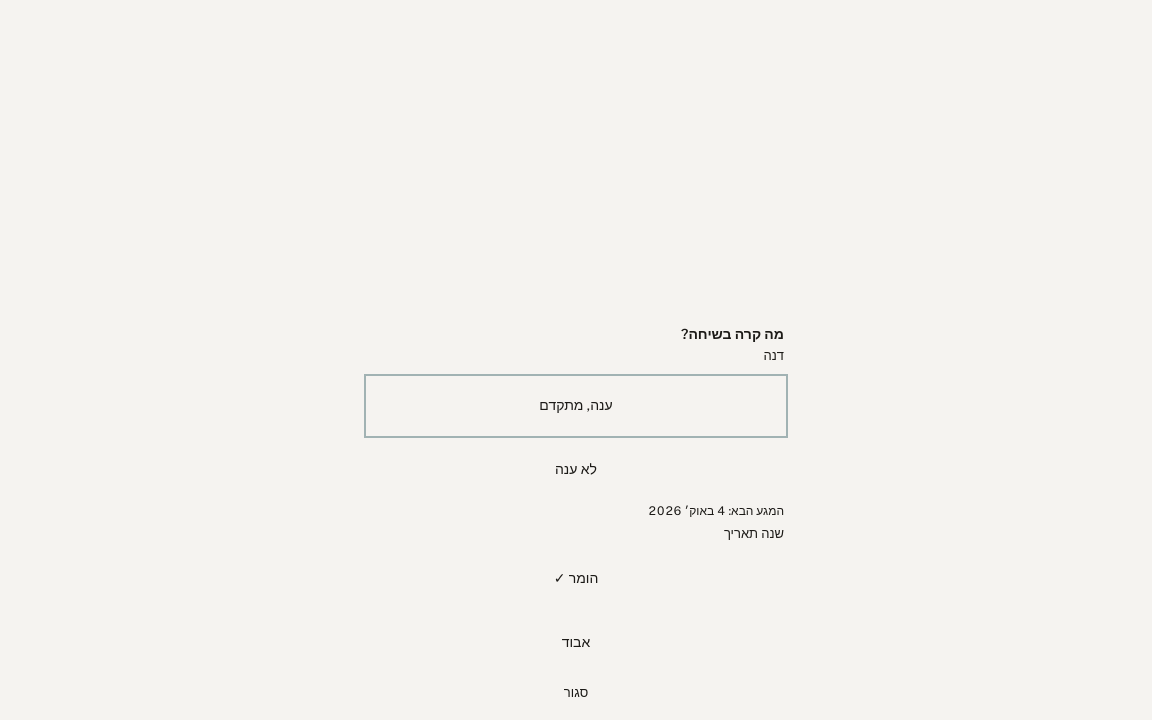
outcome sheet › lifts a restored past date to the floor, so Save never dies silently
Click the button with test id "outcome-answered_progressing". click: point(576, 406)
box: x1=368 y1=378 x2=784 y2=434
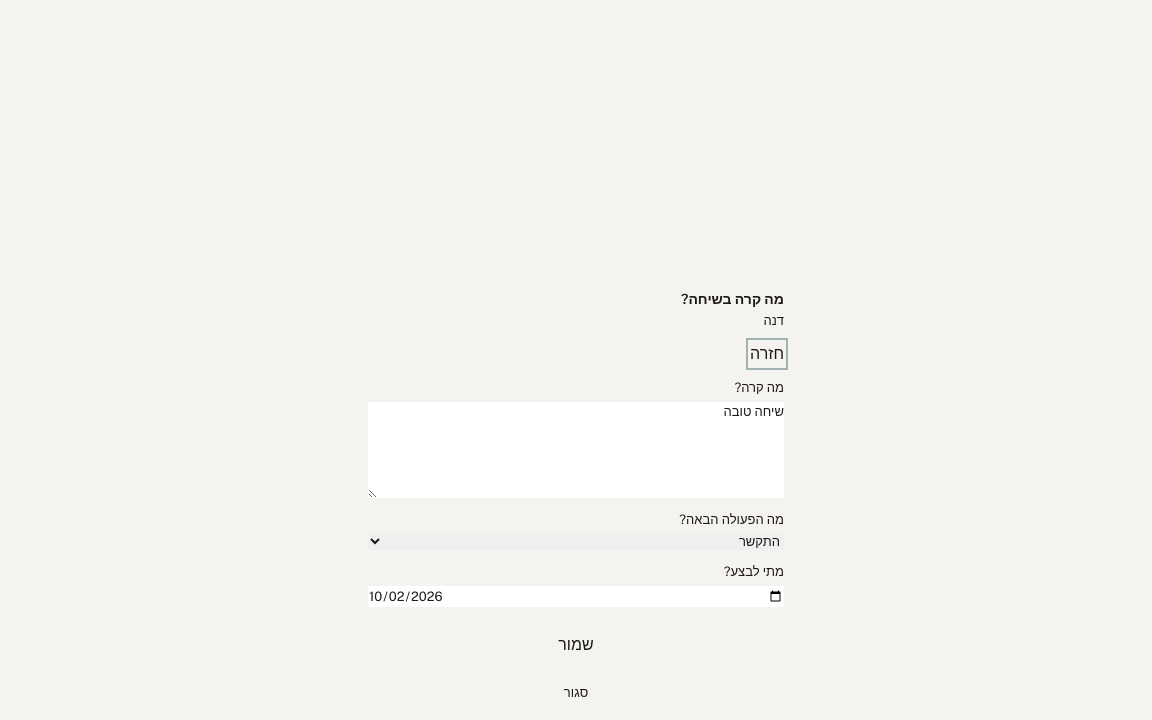
expect the date field labelled "מתי לבצע?" holds "2026-10-02": met, box x1=368 y1=586 x2=784 y2=607
expect the button with test id "activity-save" is enabled: met, box x1=368 y1=619 x2=784 y2=671
